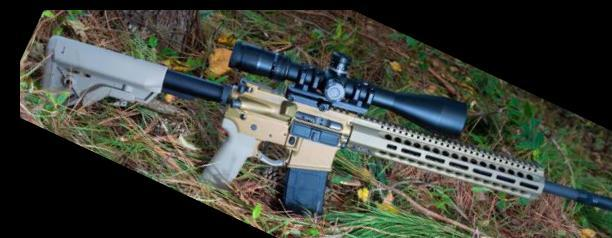larga: (42, 34, 612, 215)
